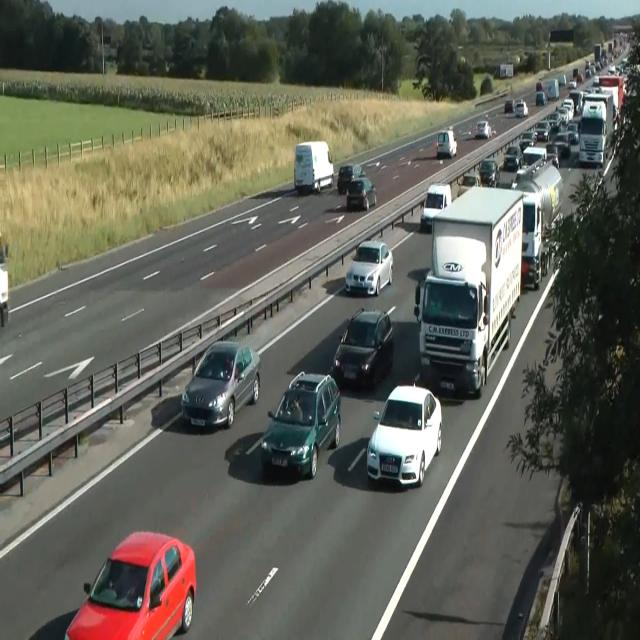bus: (64, 530, 196, 639), (260, 371, 341, 479), (366, 382, 442, 488), (181, 340, 261, 430), (344, 240, 394, 296), (336, 164, 366, 194), (456, 172, 481, 198), (478, 158, 500, 187), (0, 264, 9, 327), (503, 145, 523, 171), (474, 120, 492, 140), (518, 132, 536, 151), (534, 120, 550, 141), (514, 98, 528, 117), (567, 122, 579, 144), (352, 163, 366, 177), (536, 90, 546, 106), (504, 98, 514, 113), (568, 79, 576, 89)
jeep: (332, 306, 394, 388), (420, 182, 452, 232), (345, 175, 377, 211), (435, 128, 457, 158)
minibus: (413, 185, 524, 395), (511, 160, 563, 236), (578, 91, 615, 167), (520, 190, 544, 290), (294, 140, 334, 196), (591, 74, 625, 116), (538, 78, 560, 100), (494, 63, 514, 78)
